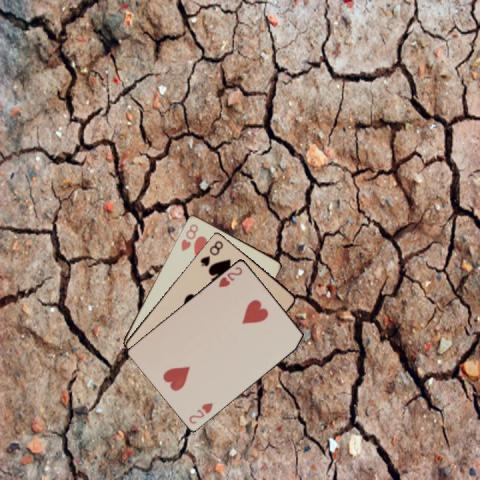2h: (215, 263, 244, 289), (186, 399, 215, 425)
8h: (178, 221, 199, 253)
8s: (197, 237, 225, 268)
